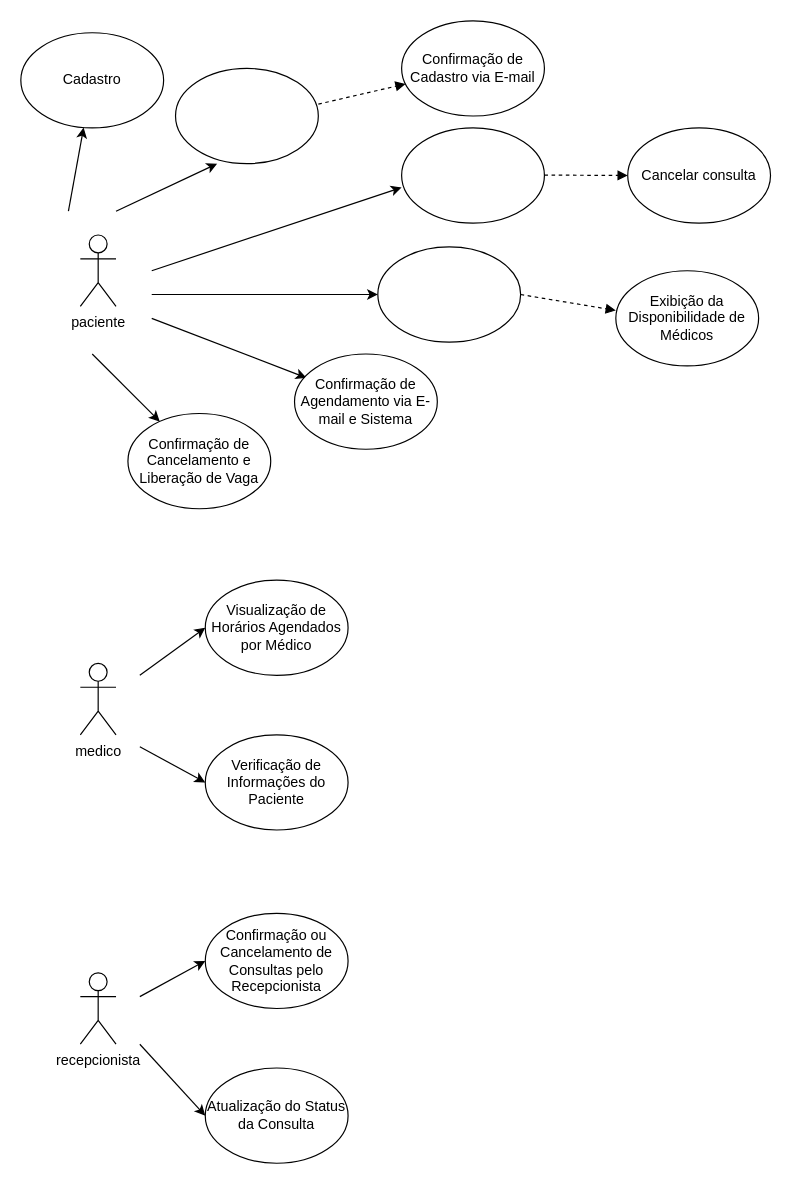
The diagram is 791 pixels wide and 1184 high, and some of its shapes have lost their labels. The centre of each missing label's shape, as x and y in pixels:
"Agendar Consulta" belongs at (x=472, y=175).
"Escolha de Médico e Horário Disponível" belongs at (x=449, y=294).
"Validação de informações" belongs at (x=246, y=115).
